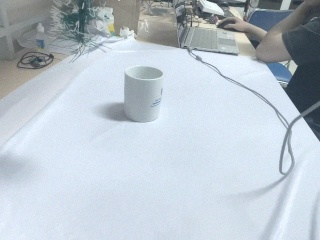cup: (123, 64, 166, 123)
